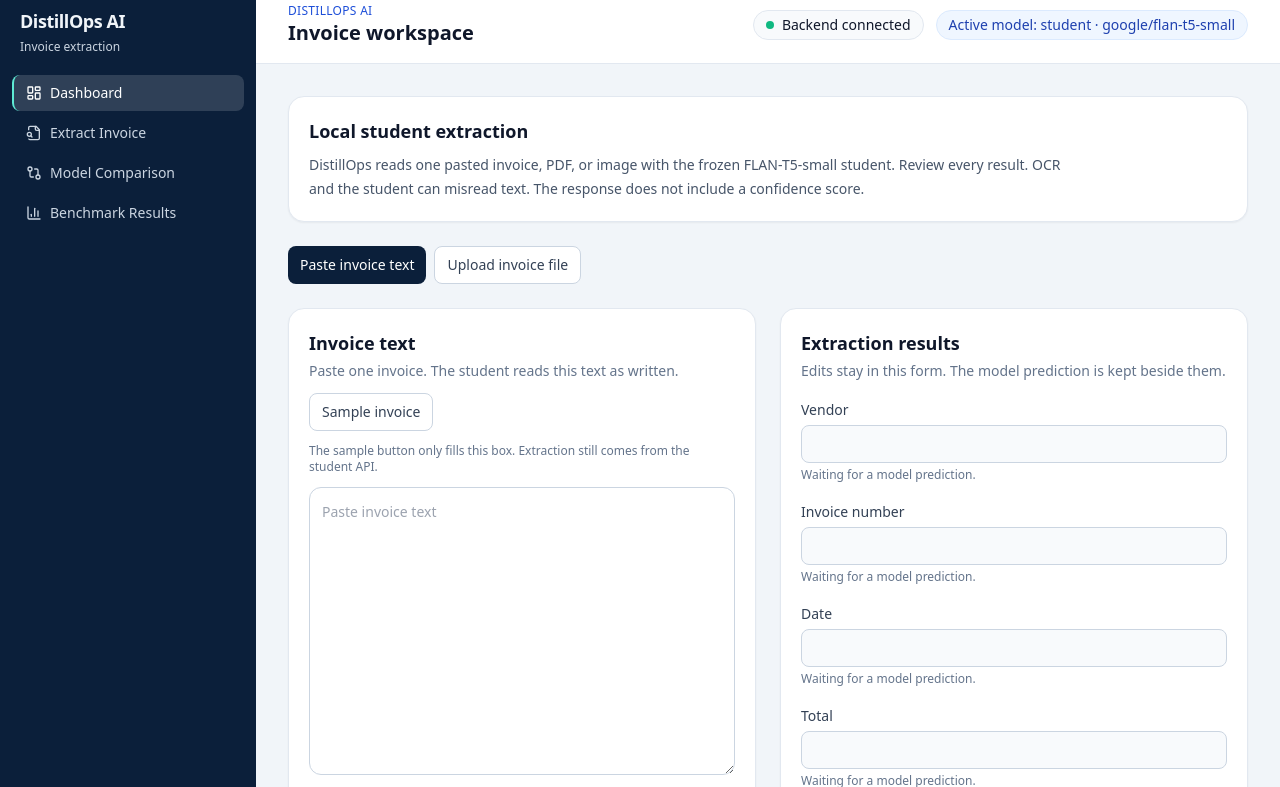
it: DistillOps workspace › fills the input from the sample and shows API fields
Click the button "Sample invoice" at (371, 412), box [309,393,434,431]
(page scrolled)
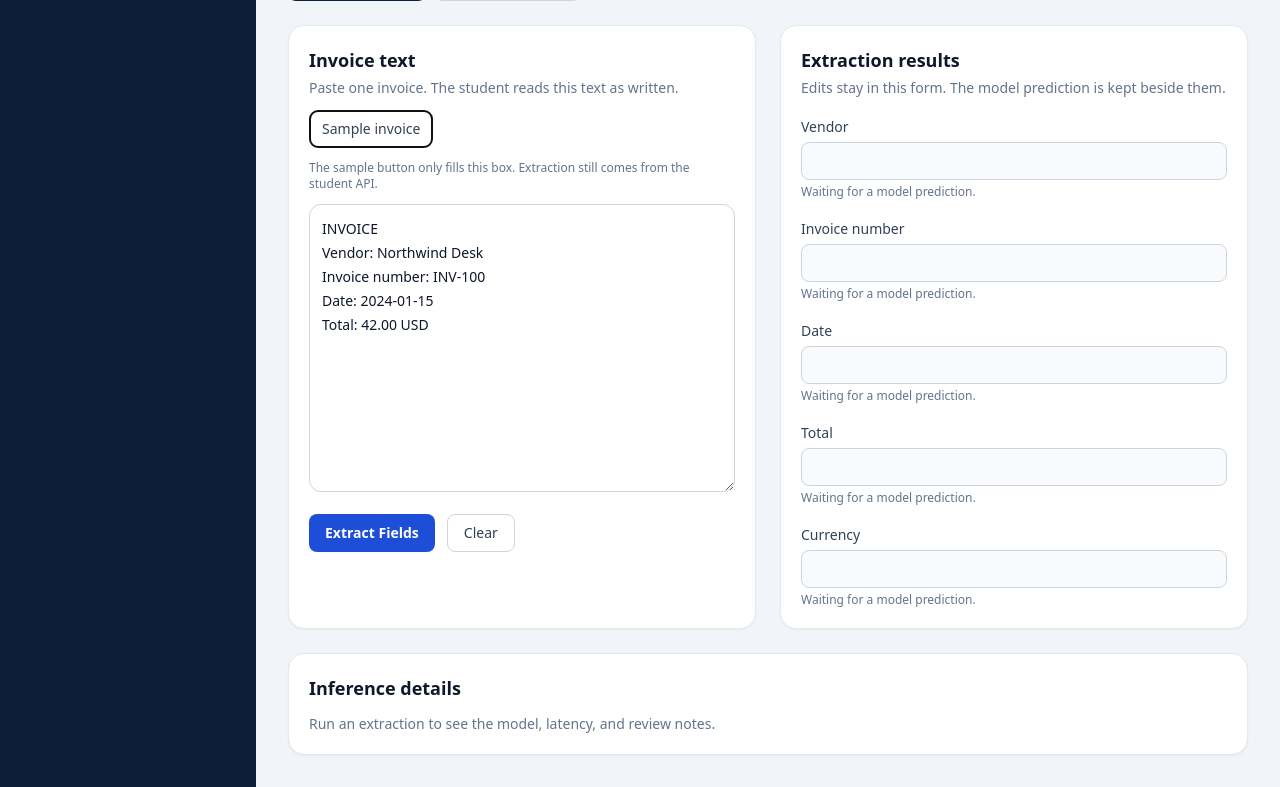
Check: the text "Waiting for a model prediction." below "Vendor" is shown, box [801,183,976,200]
Click the button "Extract Fields" at (372, 533), box [309,514,435,552]
(page scrolled)
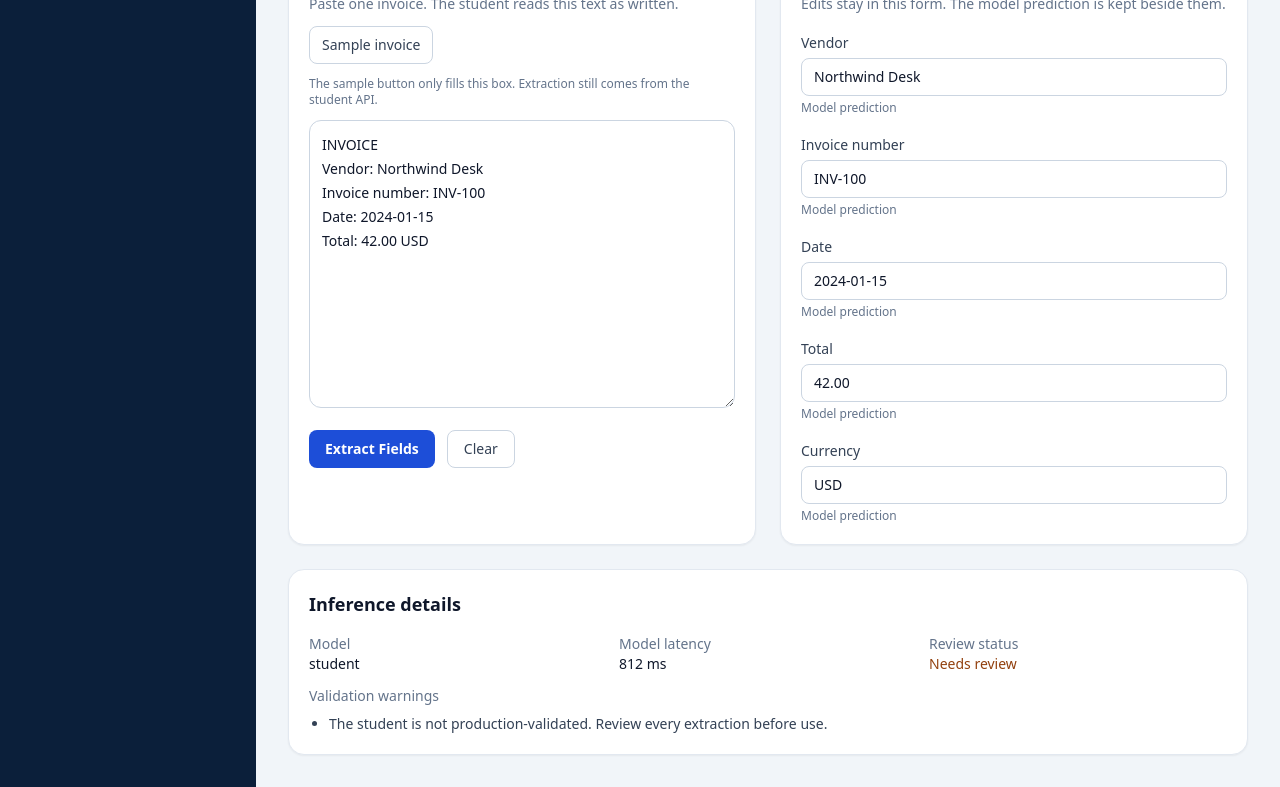
Check: the text "Needs review" is shown, box [929,654,1017,673]
Check: the field labelled "Vendor" holds "Northwind Desk", box [801,58,1227,96]
Check: the text "812 ms" is shown, box [619,654,666,673]
